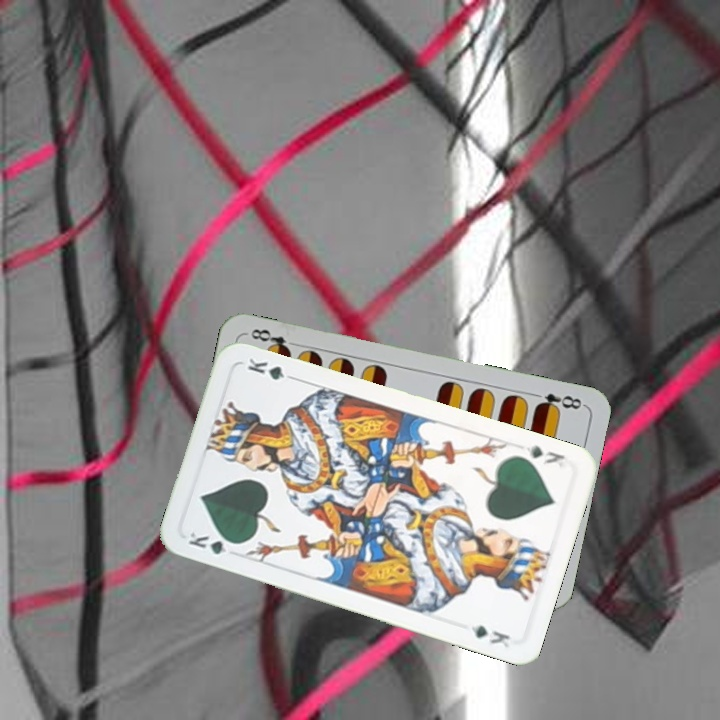E8: (531, 389, 586, 415)
GK: (185, 527, 242, 557), (521, 441, 570, 471)
